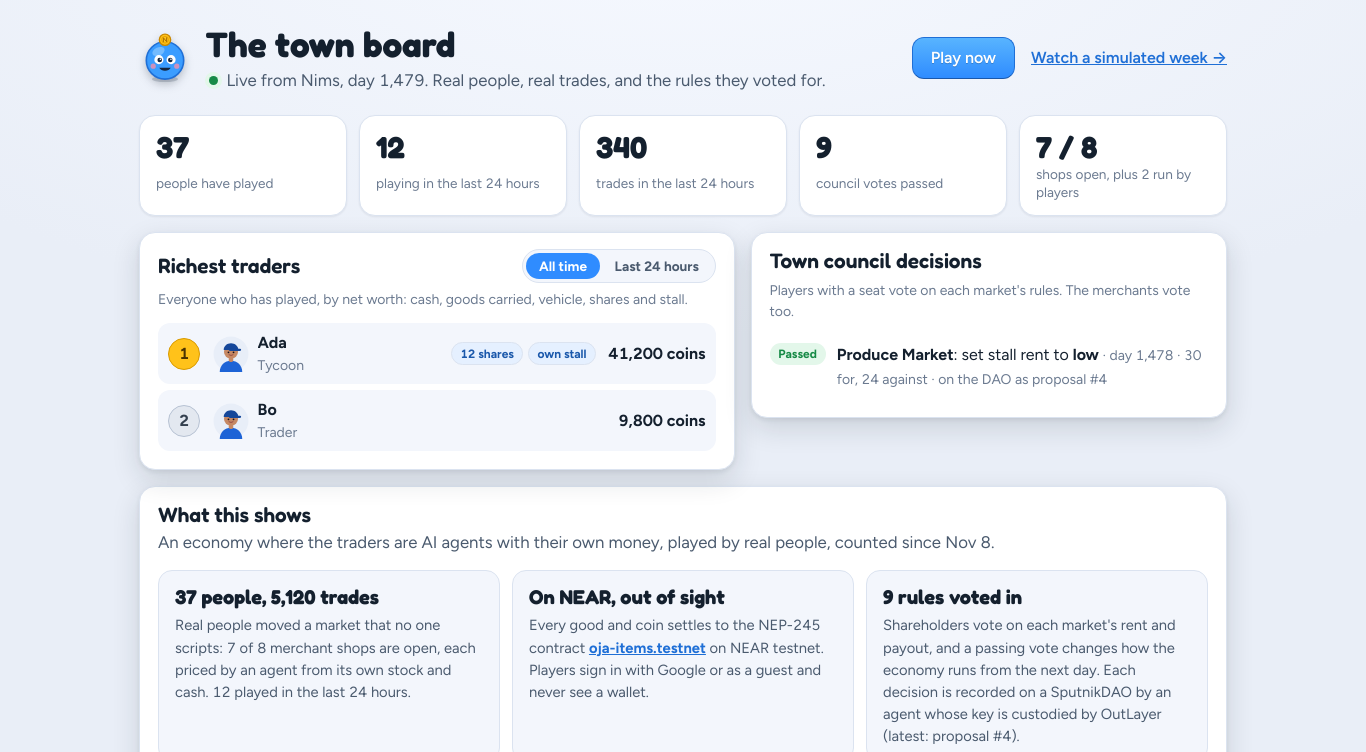
Test case: town board › says nobody played in the last 24 hours when the server has none, or predates the table
The image size is (1366, 752).
What coordinates should you click on to do the following:
click the button "Last 24 hours"
I would click on:
 (657, 266)
Its box is [602, 253, 712, 279].
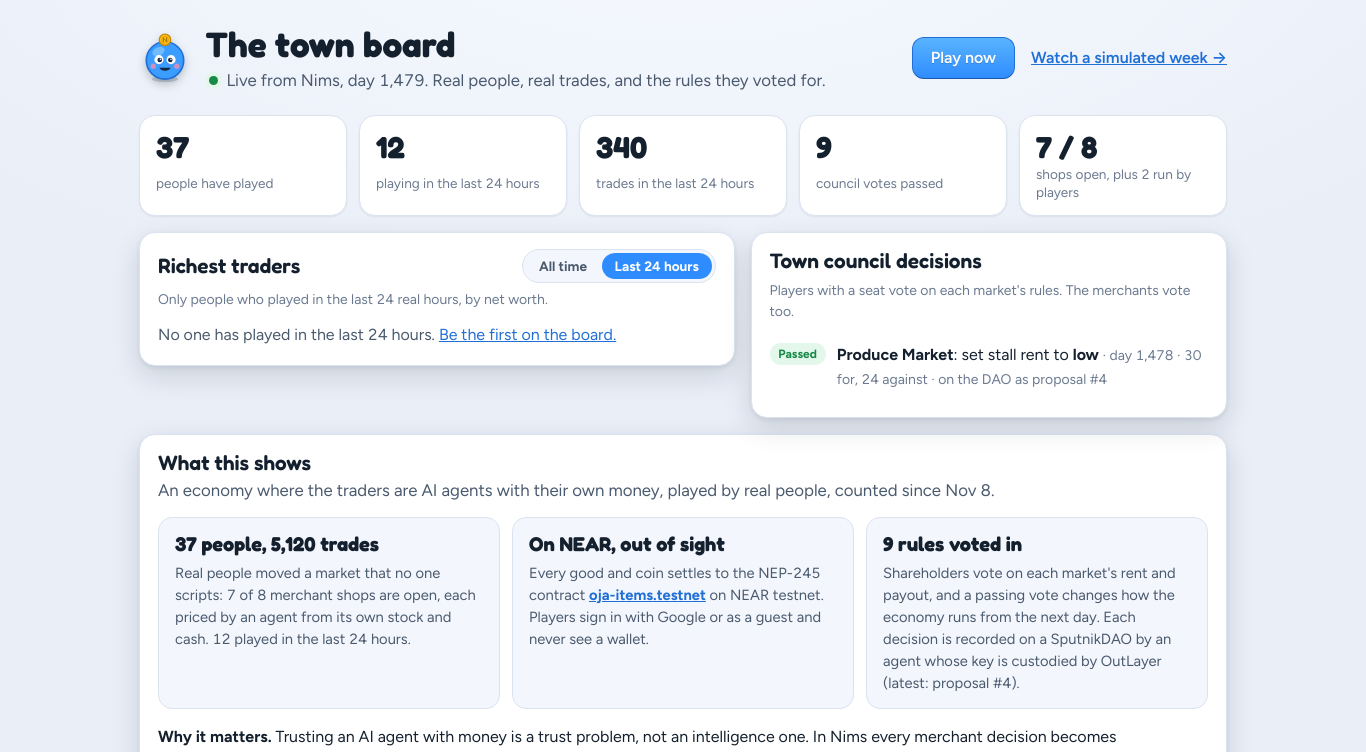
Now the text "No one has played in the last 24 hours" is shown, box [158, 325, 435, 344]
